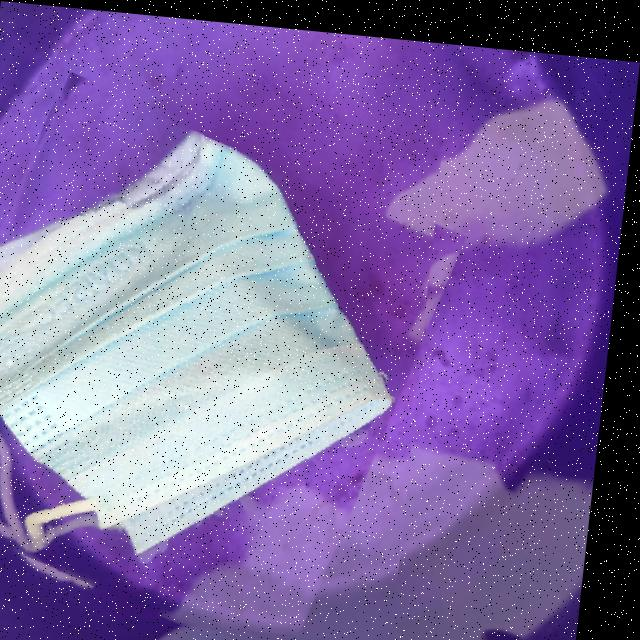mask: (0, 90, 449, 635)
